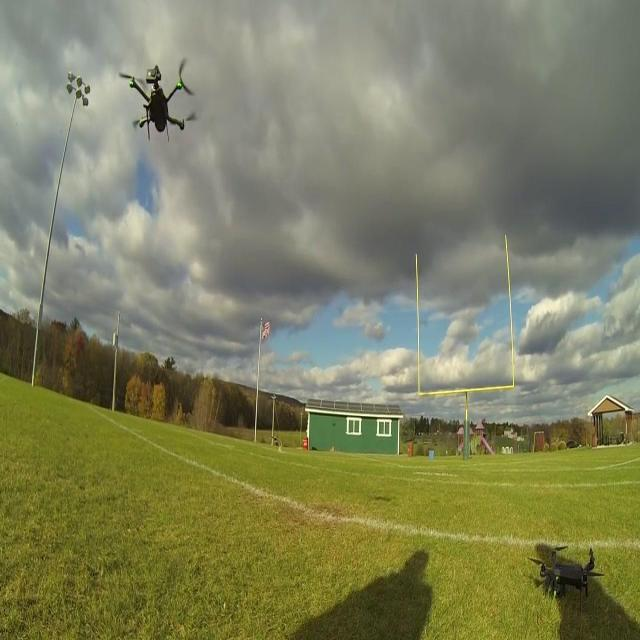drone: (118, 54, 198, 144)
